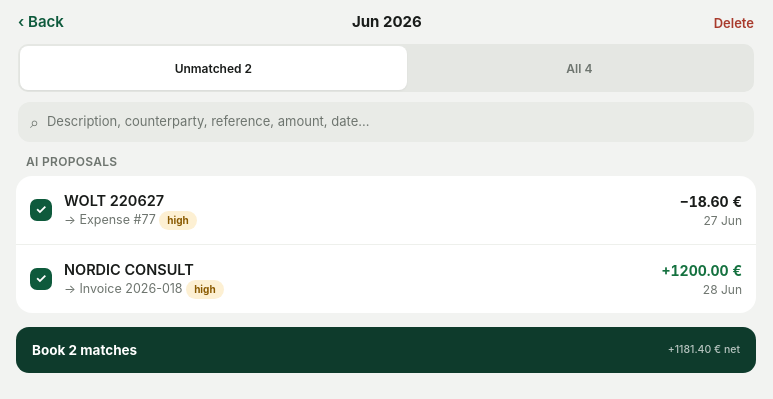
StatementScreen search (issue #278) › a hidden preselected high-confidence proposal is never booked; Clear brings it back
Expected: the button "Book 2 matches +1181.40 € net" is shown, [16, 327, 756, 373]
Type "nordic" into the search field named "Search this statement" at (394, 122), box [47, 112, 742, 132]
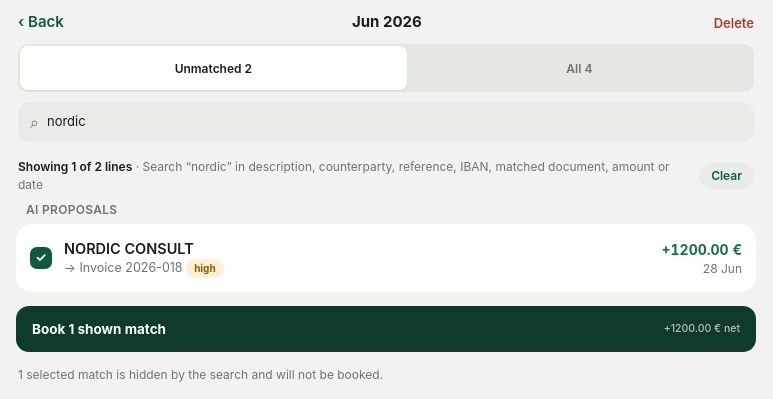
Now the button "Book 1 shown match +1200.00 € net" is shown, box [16, 306, 756, 352]
Now the text "1 selected match is hidden by the search and will not be booked" is shown, box [18, 367, 383, 382]
Click the button with aria-label "Clear search" at (727, 176), box [699, 154, 754, 198]
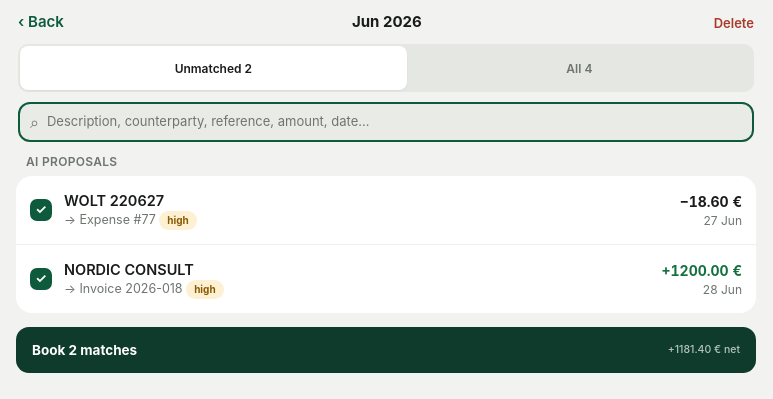
Now the button "Book 2 matches +1181.40 € net" is shown, box [16, 327, 756, 373]
Type "nordic" into the search field named "Search this statement" at (394, 122), box [47, 112, 742, 132]
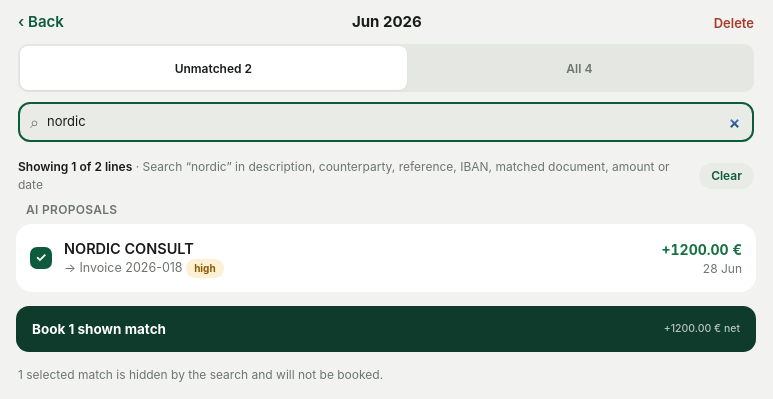
Click the button "Book 1 shown match +1200.00 € net" at (50, 329), box [16, 306, 756, 352]
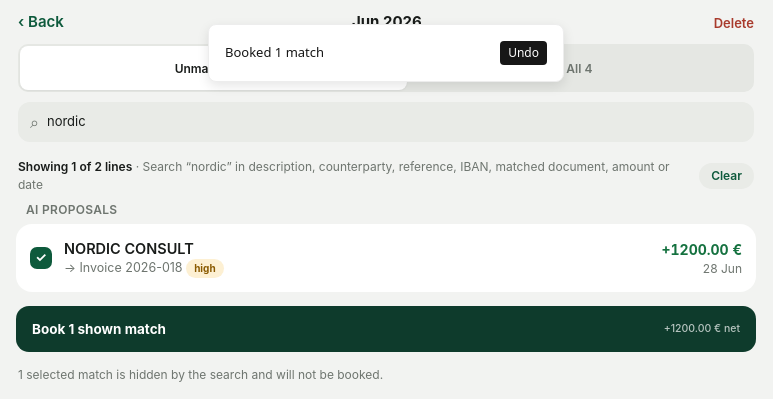
Now the text "Booked 1 match" is shown, box [225, 43, 324, 63]
